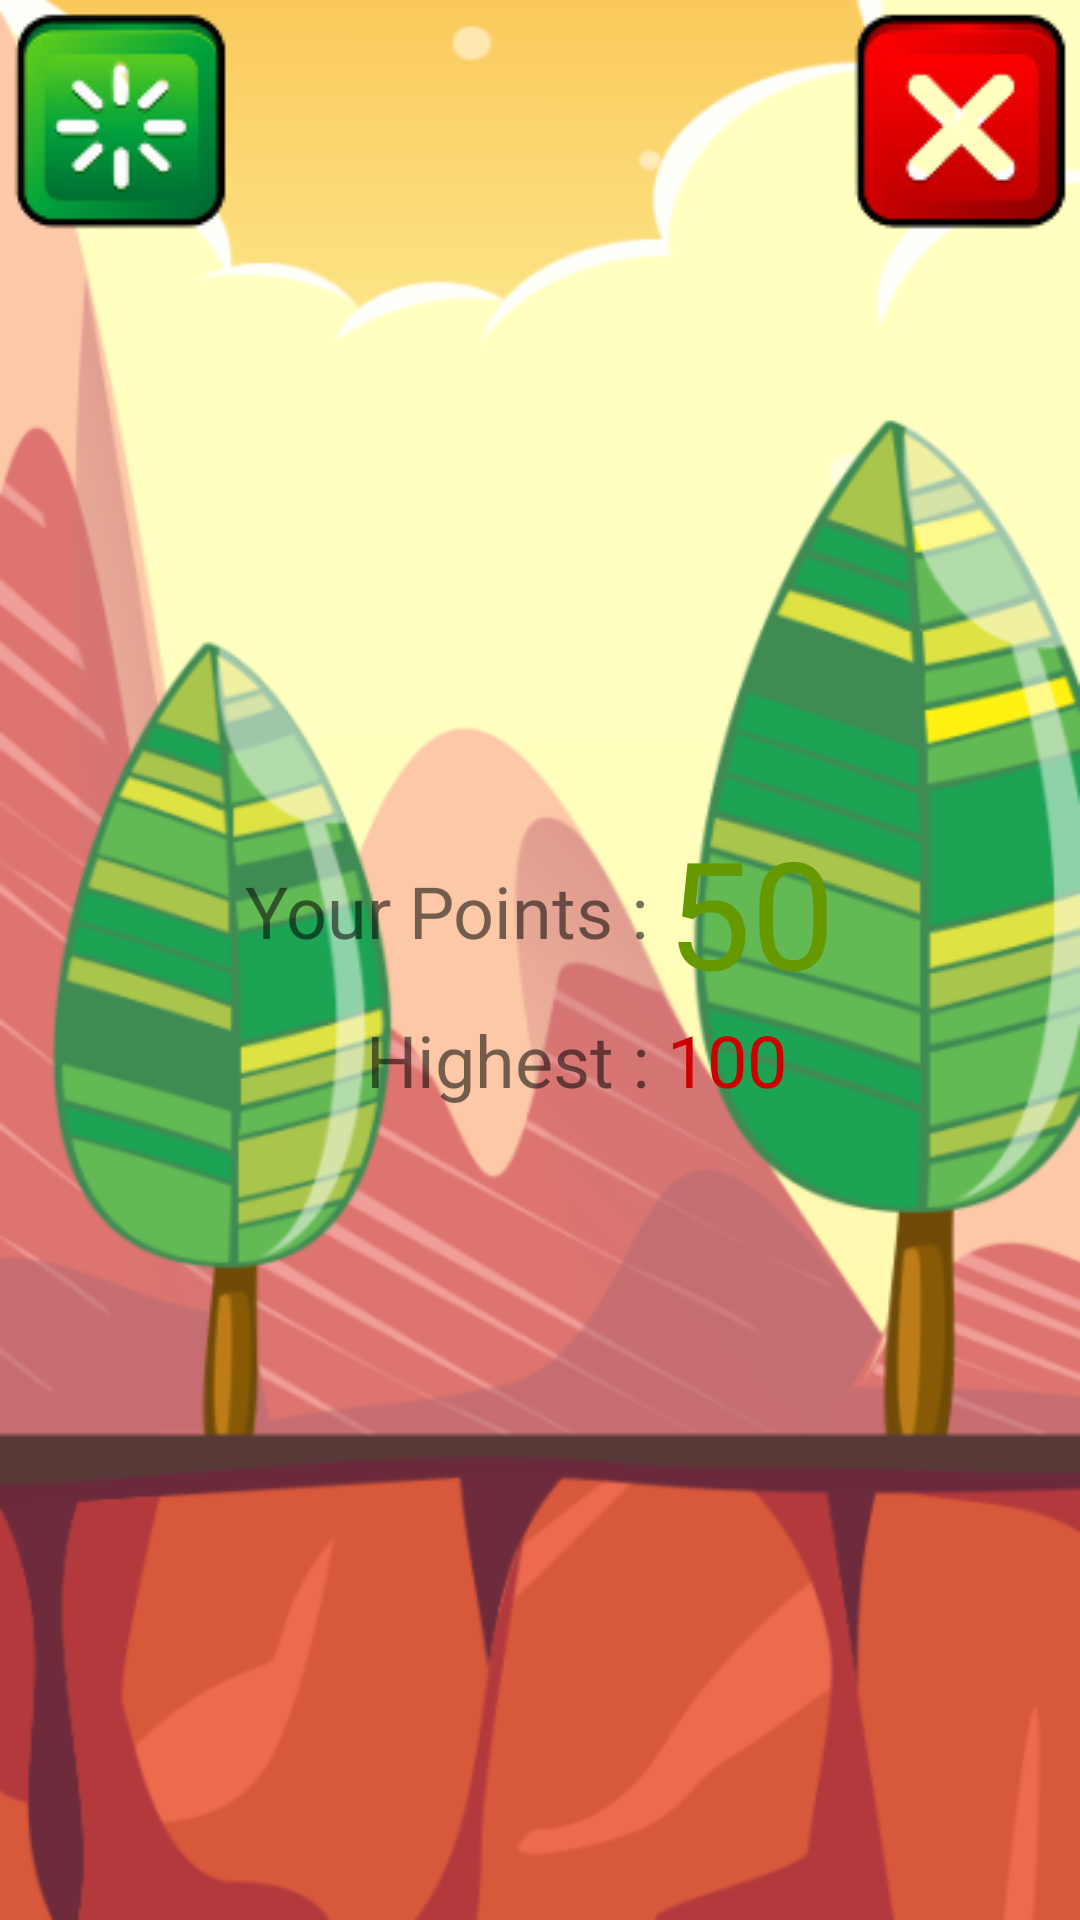

Icon bounding boxes for this 1080x1920 phone screenshot, format (x1, y1, x2, y2):
exit: (840, 0, 1080, 240)
